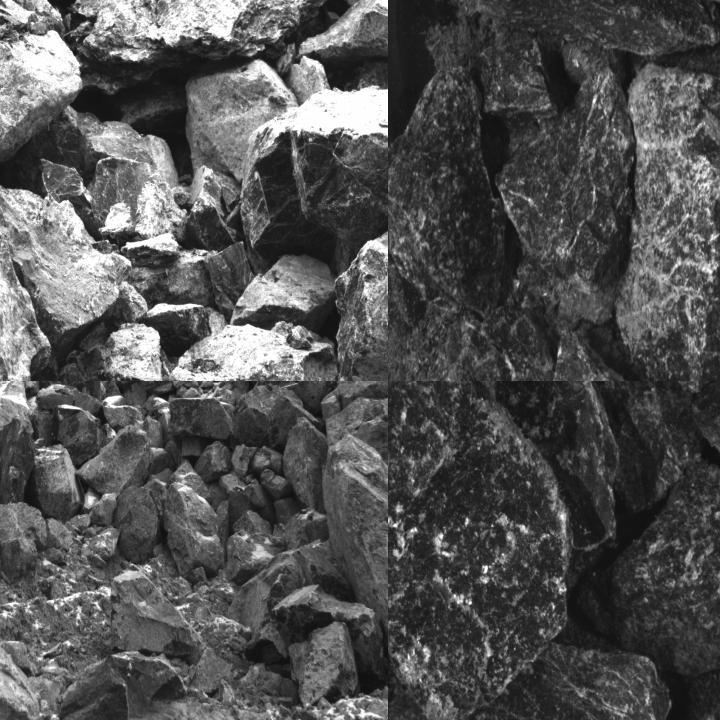stone: (388, 381, 575, 719), (495, 38, 632, 321), (442, 381, 618, 596), (617, 62, 719, 380), (388, 65, 512, 315), (578, 460, 719, 674), (240, 81, 387, 276), (0, 165, 133, 334), (388, 642, 672, 719), (587, 381, 705, 513), (323, 433, 387, 645), (459, 0, 714, 53), (404, 291, 555, 380), (0, 29, 83, 173), (168, 320, 346, 380), (110, 570, 210, 664), (551, 317, 698, 380), (334, 225, 387, 380), (284, 618, 357, 708), (483, 38, 556, 120), (164, 483, 225, 580), (297, 0, 387, 61), (75, 427, 154, 495), (87, 322, 172, 380), (31, 443, 86, 522), (0, 624, 45, 719), (284, 420, 326, 512), (116, 484, 164, 564), (134, 173, 188, 243), (52, 404, 106, 468), (186, 188, 236, 253), (227, 530, 287, 584), (168, 398, 235, 442), (264, 398, 319, 448), (0, 502, 47, 549), (190, 646, 234, 694), (284, 508, 329, 550), (244, 622, 288, 664), (0, 538, 39, 583), (195, 440, 232, 485), (251, 445, 284, 476), (233, 511, 272, 536), (231, 446, 256, 476), (275, 498, 298, 524)
